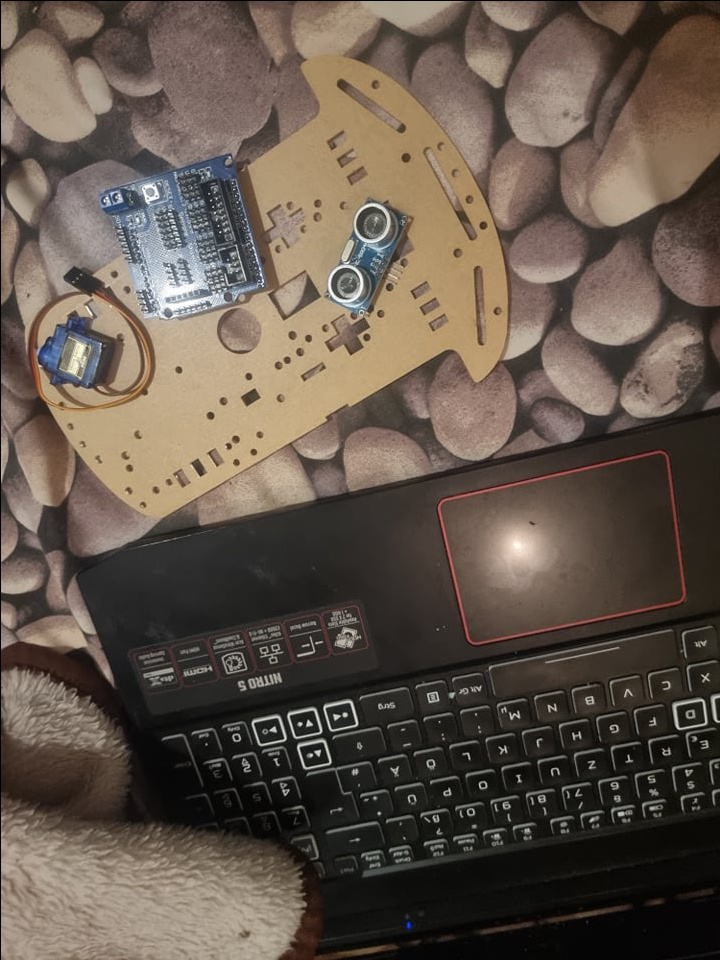5V EXPANSION: (97, 149, 264, 317)
SENSOR: (321, 199, 413, 315)
